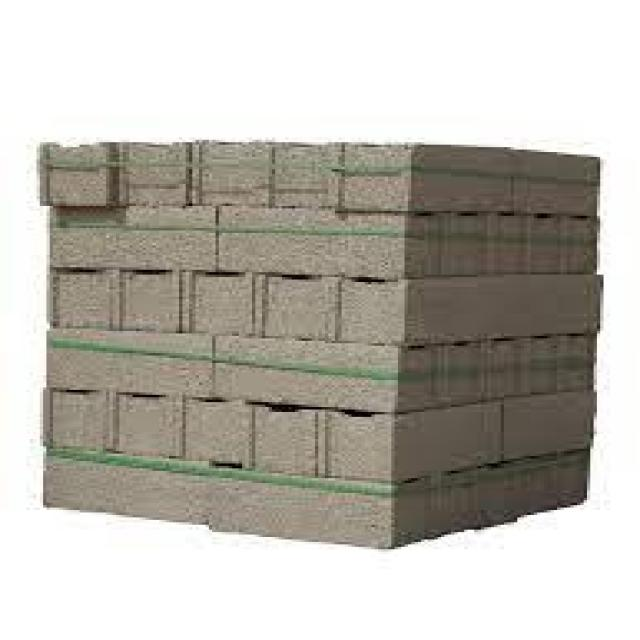bricks: (43, 142, 597, 544)
